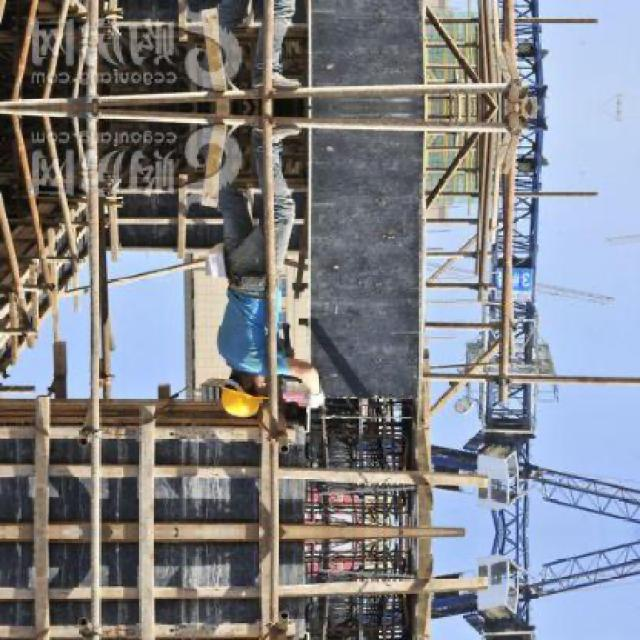con casco: (186, 348, 295, 441)
